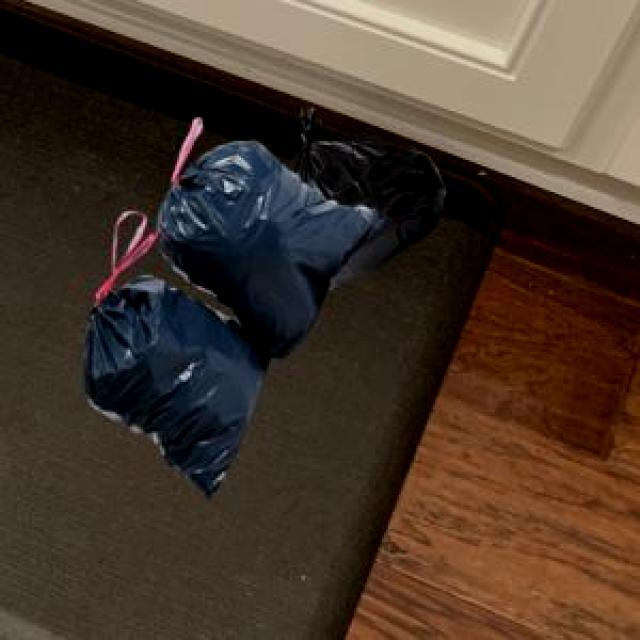Trashbag: (185, 151, 387, 356), (81, 287, 239, 484)
